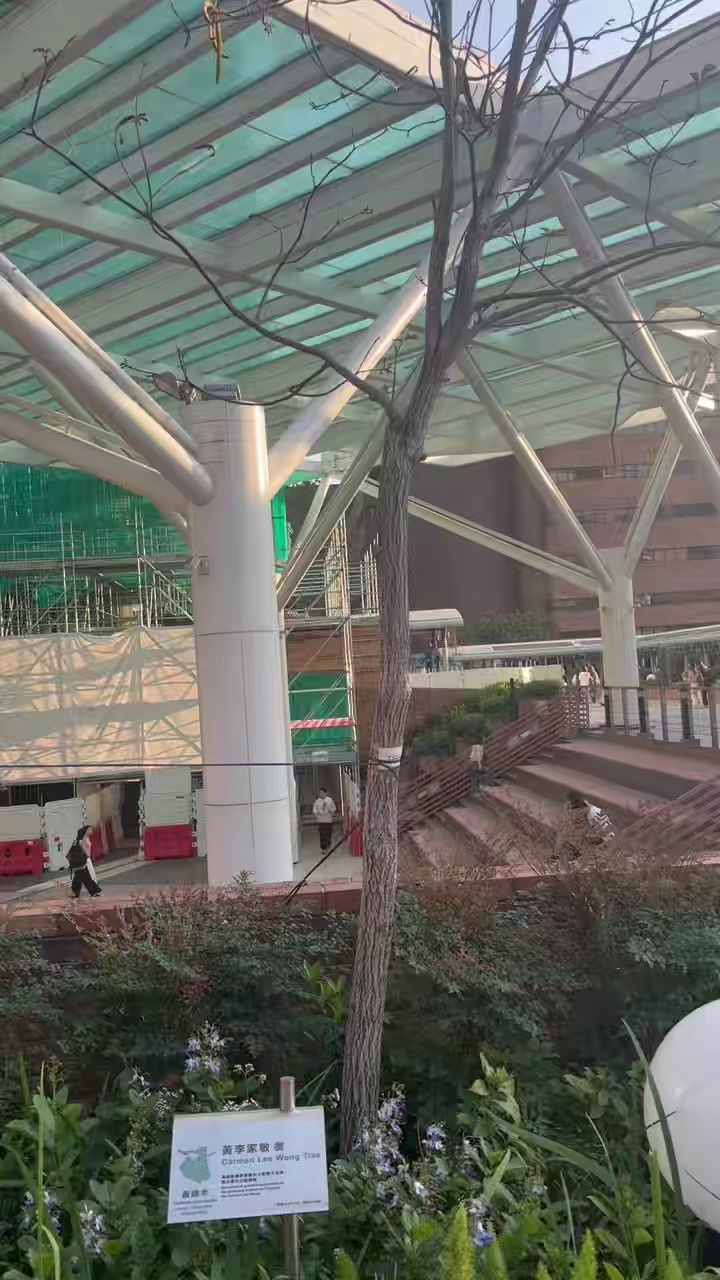Tabebuia chrysantha: (182, 0, 678, 1148)
